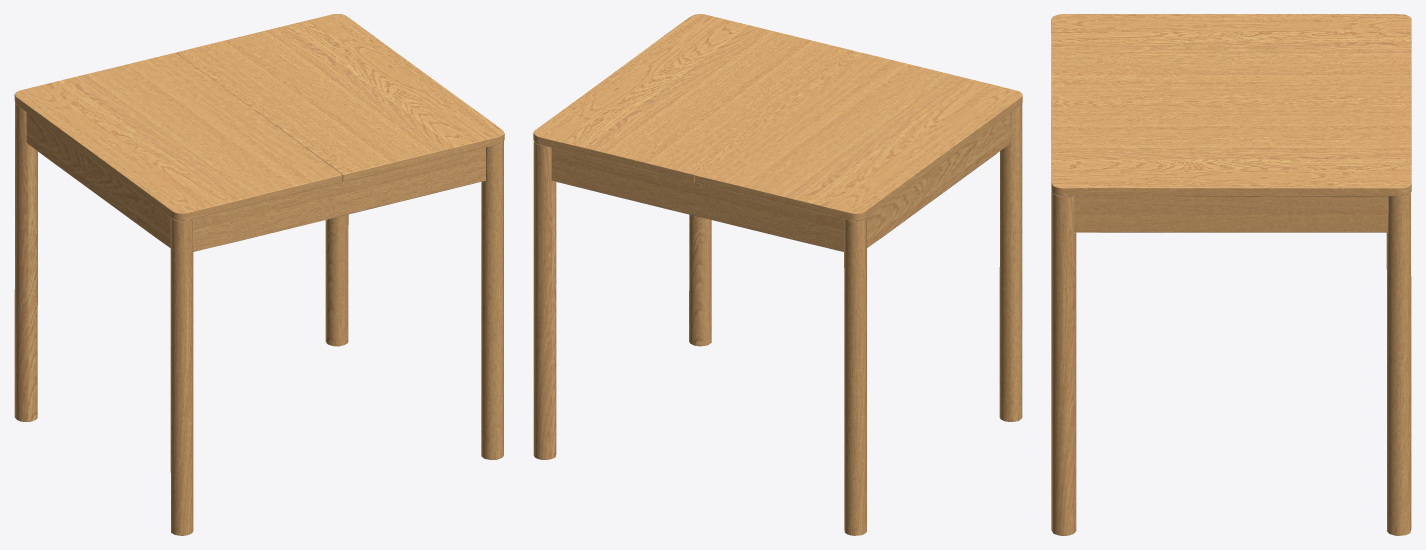
The model's file is tonstad_sto_rozkadany_10562504.glb.
The picture shows the model from 3 angles, left to right: view 1: azimuth 30°, elevation 25°; view 2: azimuth 150°, elevation 25°; view 3: azimuth 270°, elevation 25°; orthographic projection. The views are drawn at different scales.
Parts seen in each view (by area): view 1: tonstad_sto_rozkadany_10562504; view 2: tonstad_sto_rozkadany_10562504; view 3: tonstad_sto_rozkadany_10562504.
Part boxes in pixels (x1,y1,x2,y2): tonstad_sto_rozkadany_10562504: (14, 14, 504, 535); tonstad_sto_rozkadany_10562504: (533, 14, 1022, 535); tonstad_sto_rozkadany_10562504: (1051, 14, 1411, 535).
Bounding box in the file's own units: 0.8007 × 0.7496 × 0.7002.
3 materials, 3 textured.
